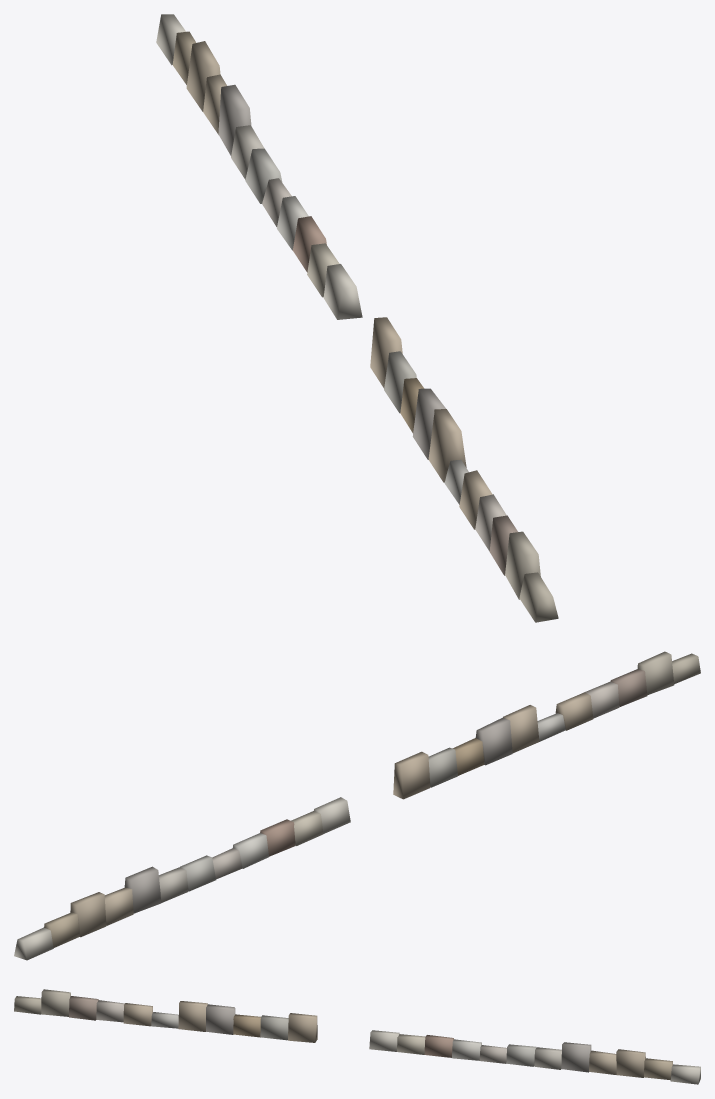
File: farm_-31_-34_far.glb
3 renders of one model, top to bottom at view 1: azimuth 30°, elevation 25°; view 2: azimuth 150°, elevation 25°; view 3: azimuth 270°, elevation 25°, orthographic. The views are drawn at different scales.
Parts seen in each view (by area): view 1: geometry_0; view 2: geometry_0; view 3: geometry_0.
Boxes of the visible parts, x1,y1,x2,y2 form: geometry_0: (156, 14, 558, 622); geometry_0: (14, 651, 700, 960); geometry_0: (14, 989, 700, 1084).
Bounding box in the file's own units: 10.57 × 1.63 × 38.52.
